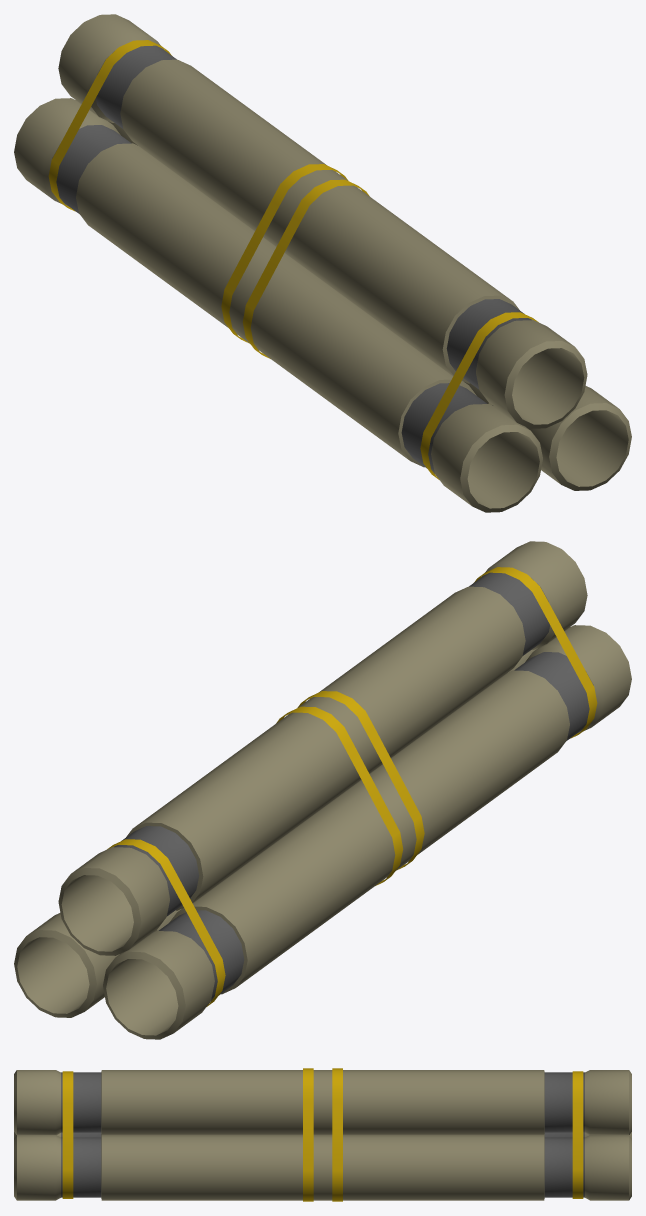
File: pipes_lev1_lev3.glb
3 renders of one model, top to bottom at view 1: azimuth 30°, elevation 25°; view 2: azimuth 150°, elevation 25°; view 3: azimuth 270°, elevation 25°, orthographic. The views are drawn at different scales.
Visible parts, largest first — view 1: pipes_lev1_lev3; view 2: pipes_lev1_lev3; view 3: pipes_lev1_lev3.
Boxes of the visible parts, bbox=[...] form: pipes_lev1_lev3: bbox=[14, 14, 631, 512]; pipes_lev1_lev3: bbox=[14, 541, 631, 1039]; pipes_lev1_lev3: bbox=[14, 1068, 631, 1201].
Size of the model in its own units: 1.56 by 1.4 by 7.
Materials: 1 (1 with a texture image).
